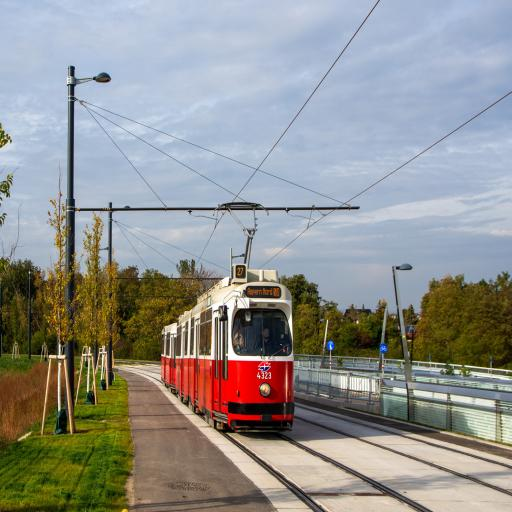E2-Tram: (163, 263, 297, 432)
